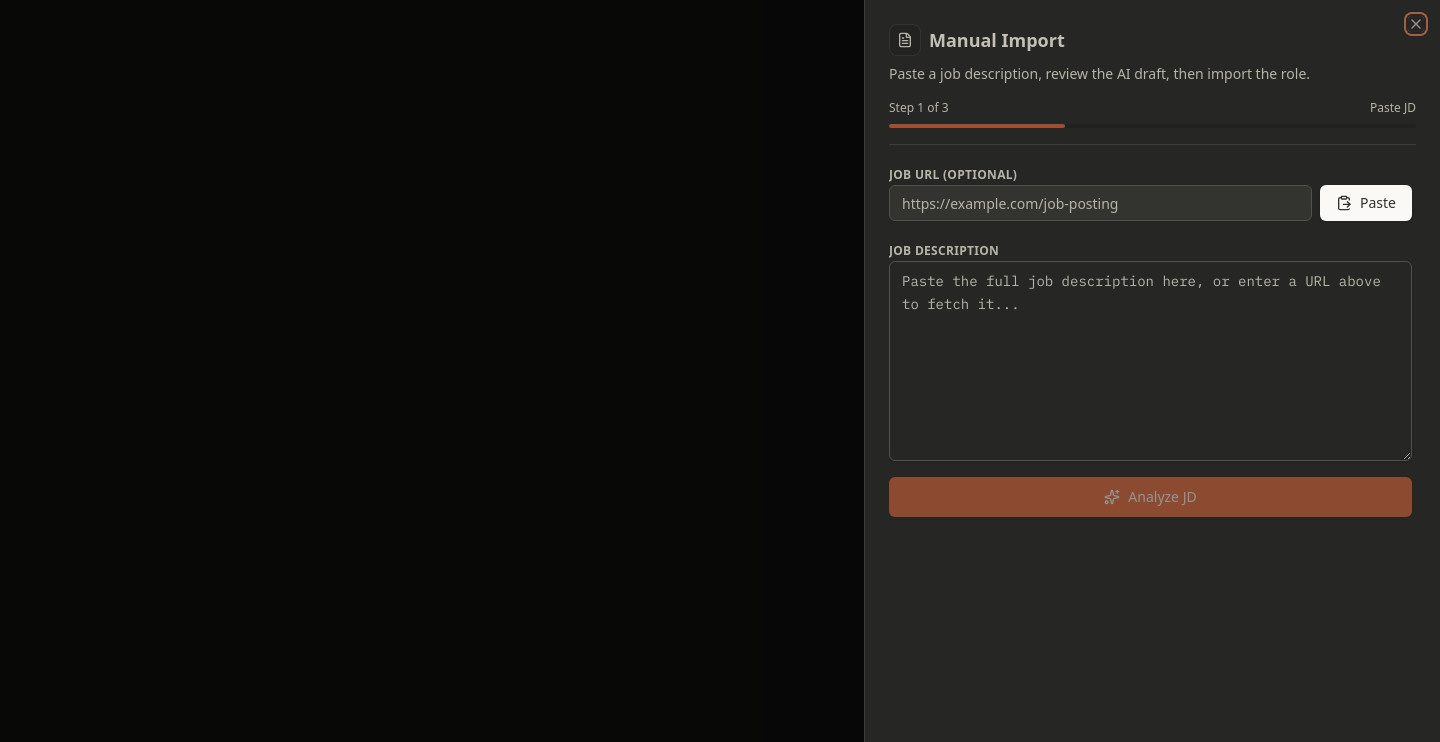
Test: ManualImportSheet › URL fetch functionality › preserves fetched URL in the job URL field
In the field with placeholder "https://example.com/job-posting": (1100, 203) [889,185,1312,221], type "https://example.com/job"
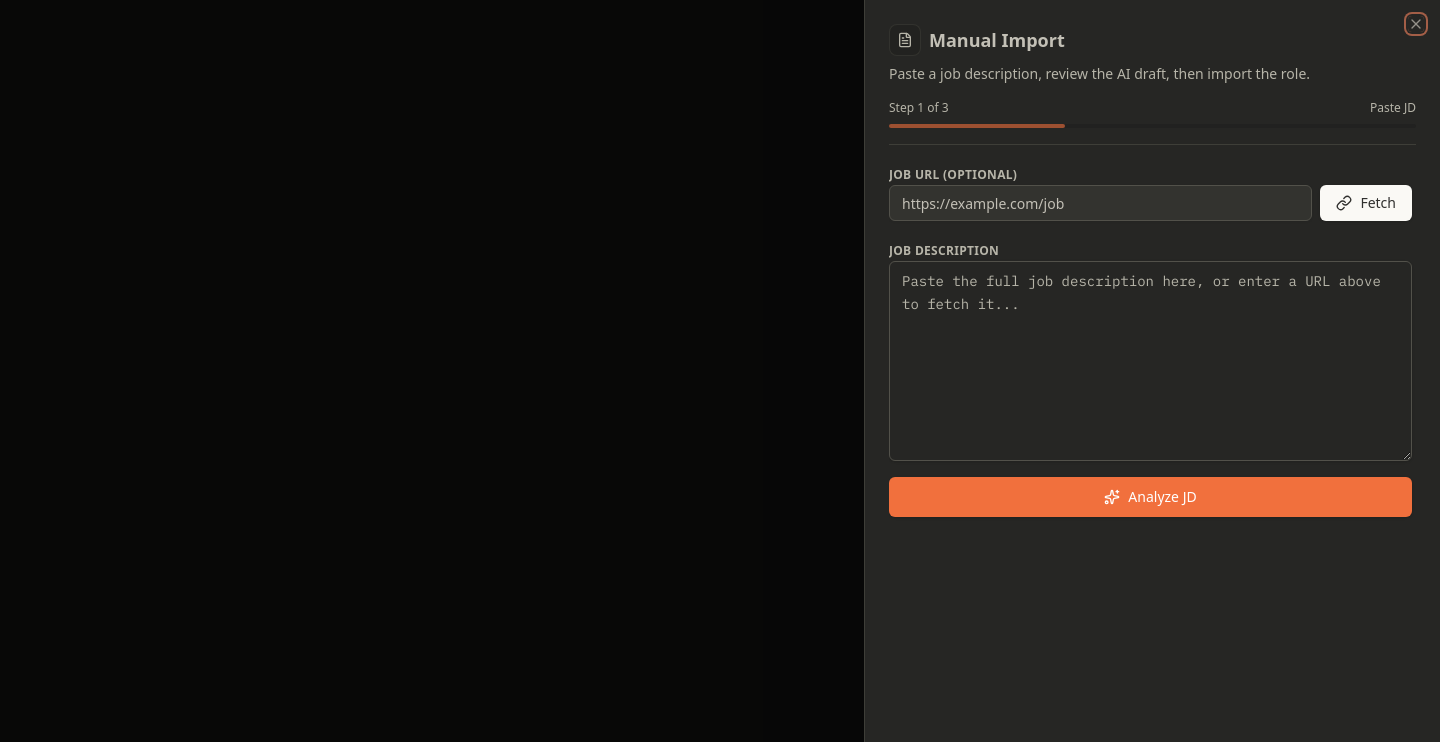
Click the button "Fetch": (1366, 203) [1320,185,1412,221]
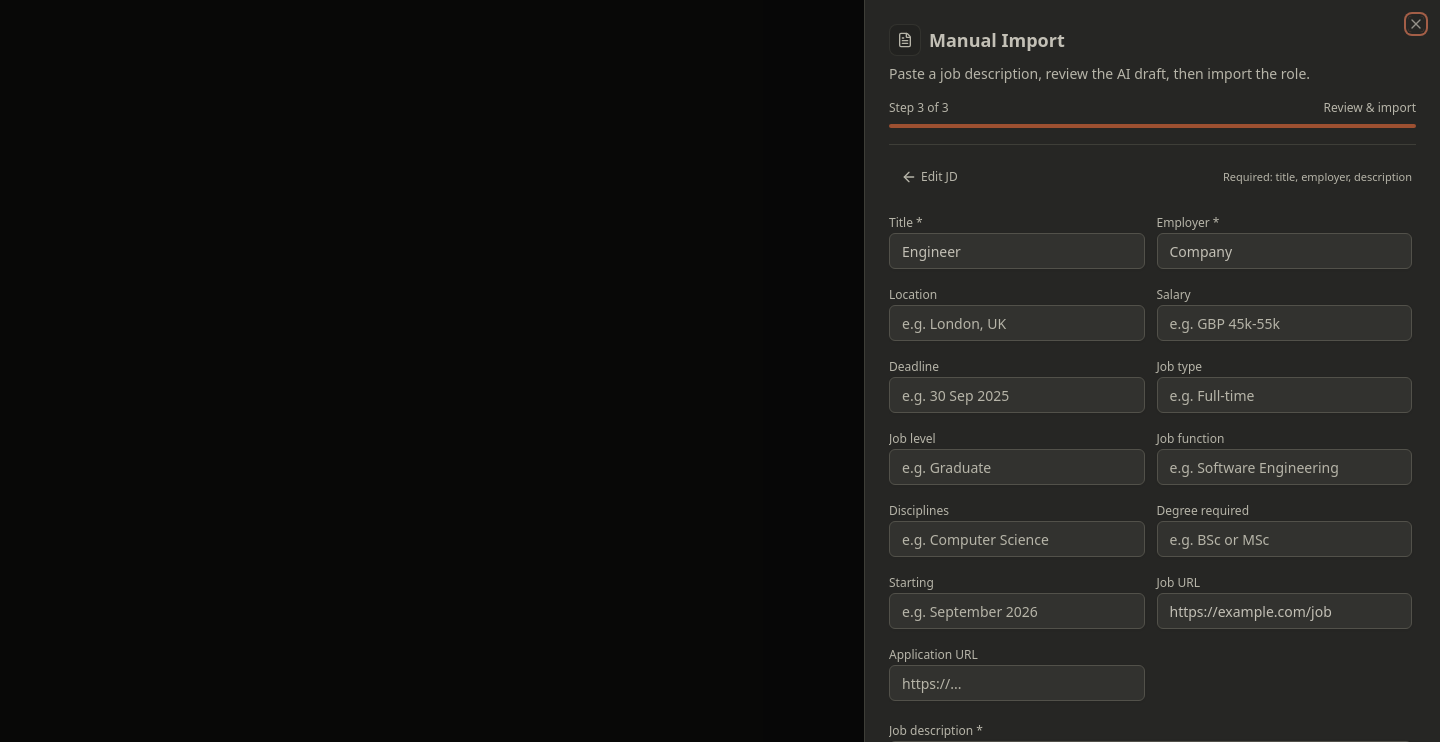
Check: the field with placeholder "e.g. Junior Backend Engineer" is shown, box [889,233,1144,269]
Check: the field with placeholder "https://..." holds "https://example.com/job", box [1156,593,1412,629]
